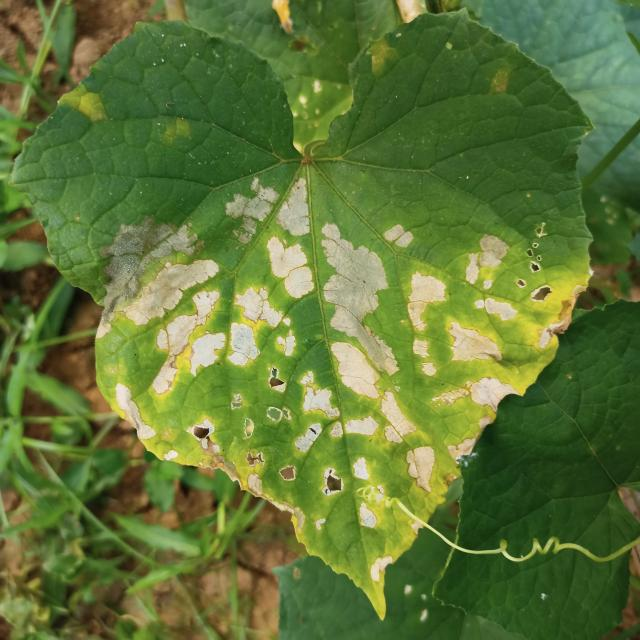disease_cucumber: (91, 169, 573, 589), (50, 75, 118, 137)
